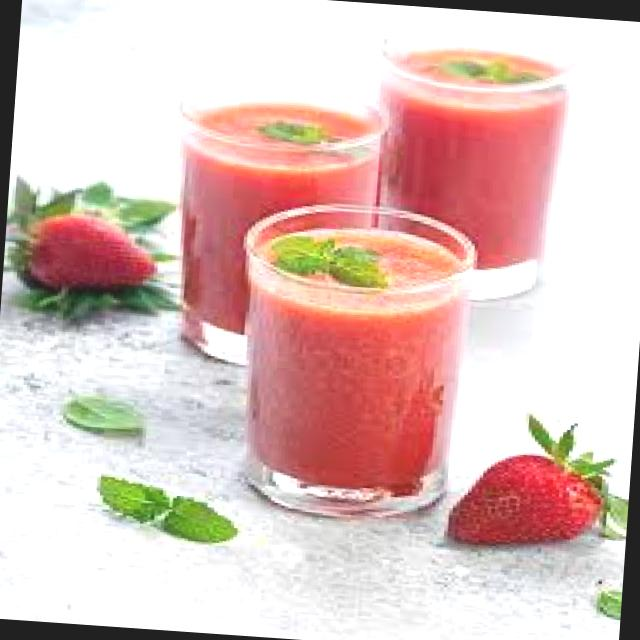tofu: (430, 420, 618, 558), (12, 191, 185, 310)
